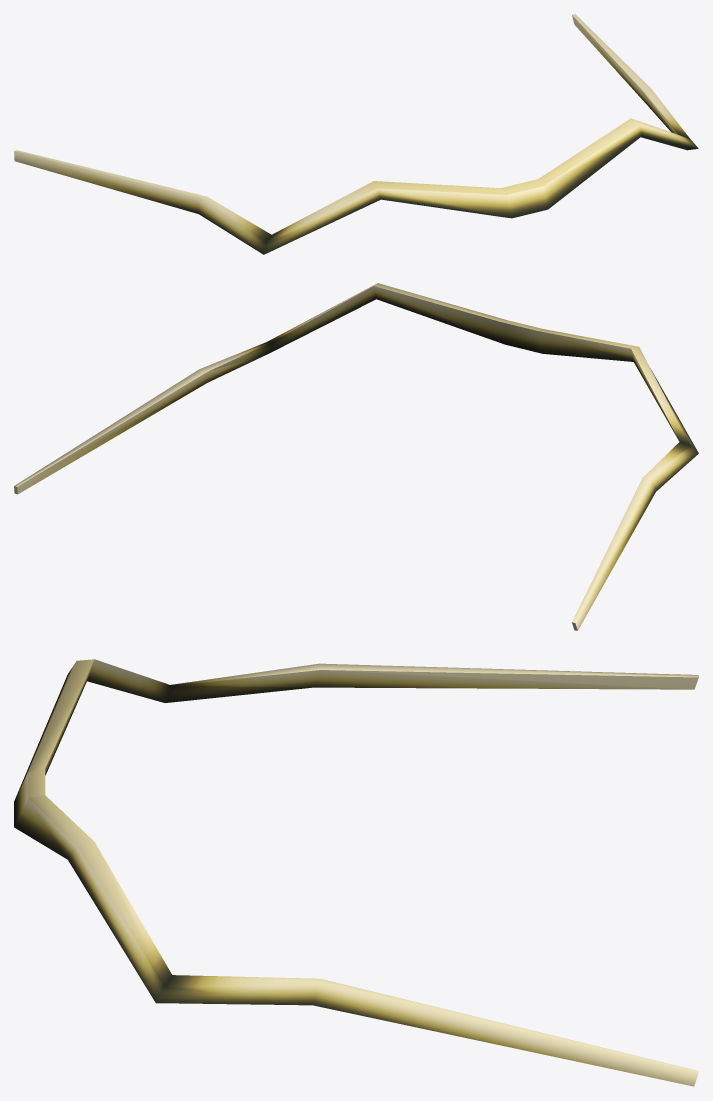
The model's file is shades_main.DAE.
3 views of the same model, one above another, from view 1: azimuth 30°, elevation 25°; view 2: azimuth 150°, elevation 25°; view 3: azimuth 270°, elevation 25° (orthographic). The views are drawn at different scales.
Parts seen in each view (by area): view 1: Box03; view 2: Box03; view 3: Box03.
Boxes of the visible parts, bbox=[...] form: Box03: bbox=[14, 14, 698, 254]; Box03: bbox=[14, 283, 698, 630]; Box03: bbox=[14, 659, 698, 1086].
Size of the model in its own units: 0.1822 by 0.029 by 0.132.
